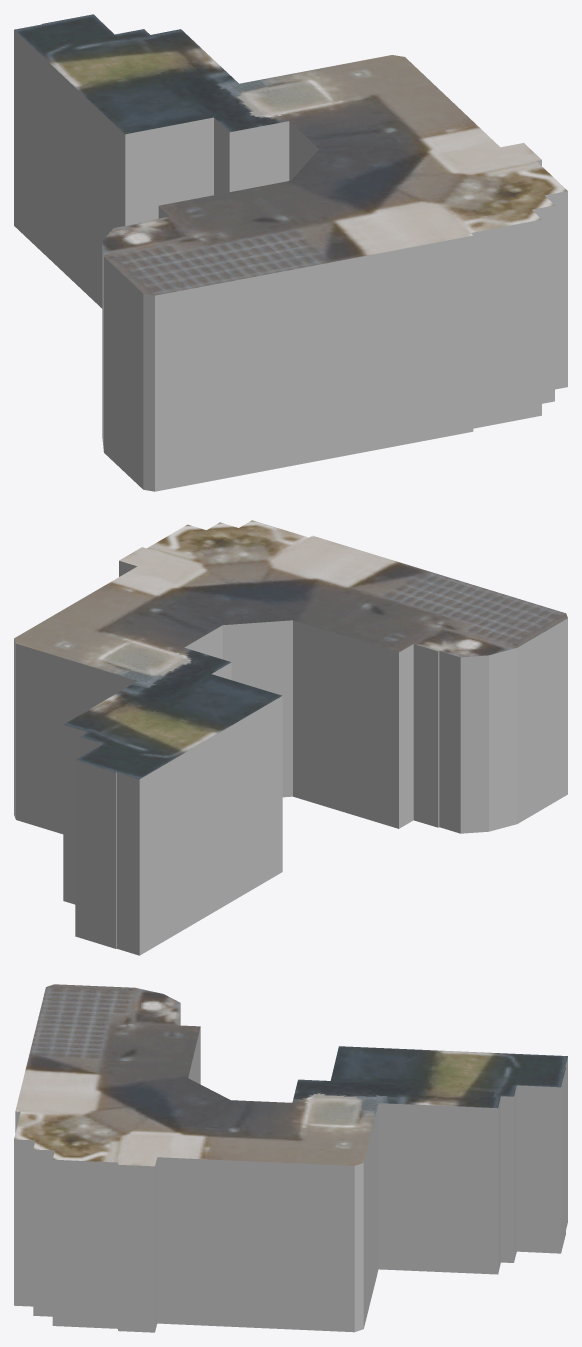
Rendered from DEBW_0010007Txi5.gltf.
3 views of the same model, one above another, from view 1: azimuth 30°, elevation 25°; view 2: azimuth 150°, elevation 25°; view 3: azimuth 270°, elevation 25° (orthographic). The views are drawn at different scales.
Parts seen in each view (by area): view 1: Z_UP; view 2: Z_UP; view 3: Z_UP.
Boxes of the visible parts, x1,y1,x2,y2 form: Z_UP: (14,14,567,491); Z_UP: (14,520,567,955); Z_UP: (14,984,567,1332).
Size of the model in its own units: 39.63 by 16.88 by 50.95.
Materials: 2 (1 with a texture image).
